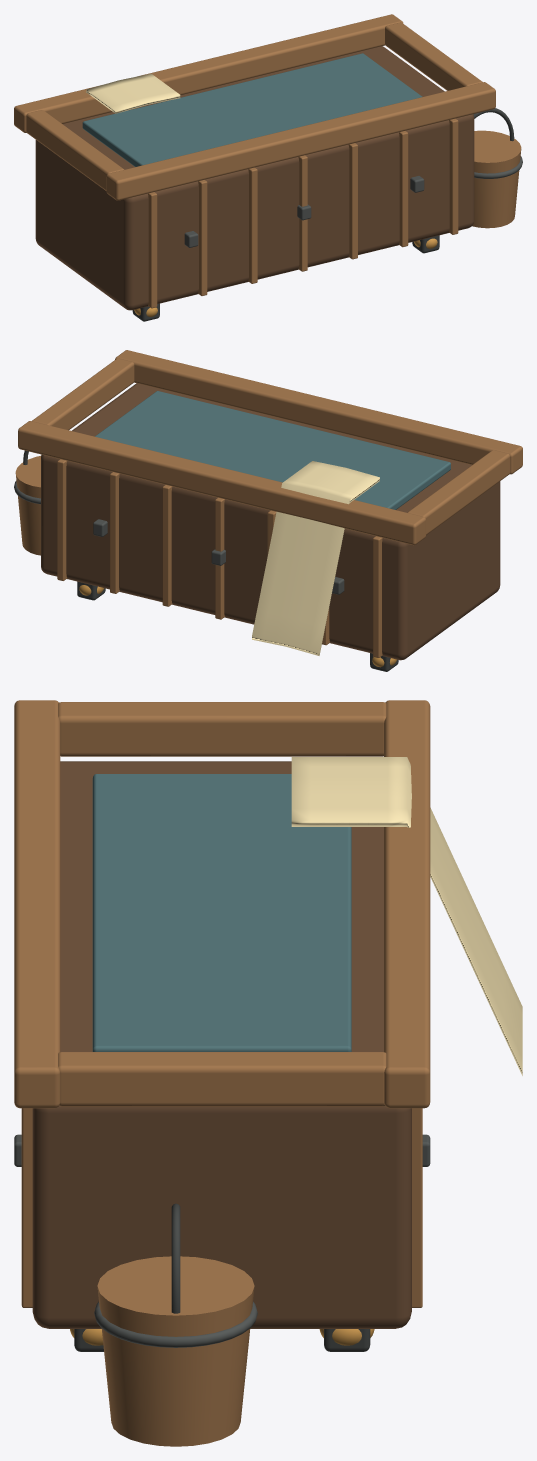
The model's file is detail_bathtub.glb.
3 views of the same model, one above another, from view 1: azimuth 30°, elevation 25°; view 2: azimuth 150°, elevation 25°; view 3: azimuth 270°, elevation 25° (orthographic). The views are drawn at different scales.
Visible parts, largest first — view 1: wood, object 4, cloth, metal; view 2: wood, object 4, cloth, metal; view 3: wood, object 4, cloth, metal.
Part boxes in pixels (x1,y1,x2,y2): wood: (14,14,521,321); object 4: (82,53,422,166); cloth: (86,73,180,113); metal: (134,156,522,316); wood: (15,350,522,671); object 4: (95,391,450,509); cloth: (252,461,379,655); metal: (14,481,396,667); wood: (14,700,430,1446); object 4: (92,774,351,1051); cloth: (291,757,522,1075); metal: (14,1134,430,1347).
Bounding box in the file's own units: 2.2 × 0.8 × 1.1.
